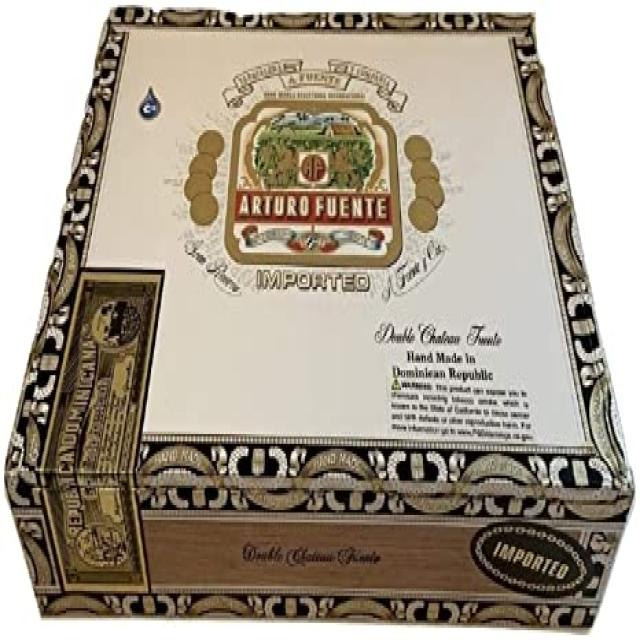Arturo Fuente: (235, 108, 391, 252)
